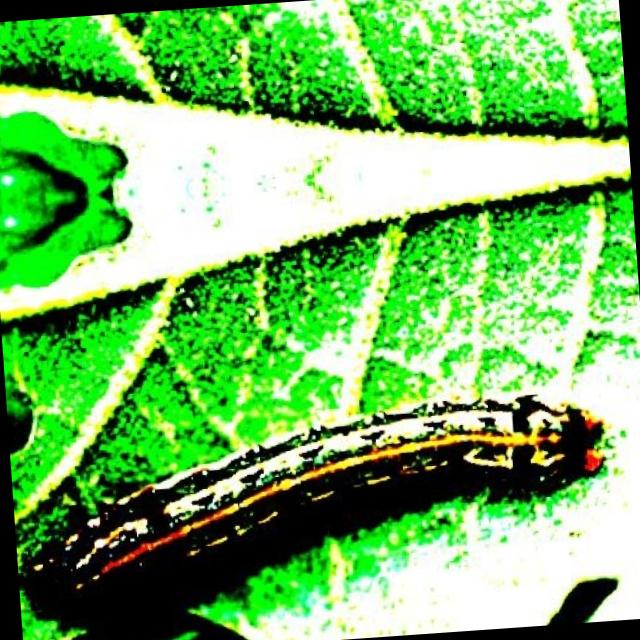Armyworm: (13, 365, 626, 635)
